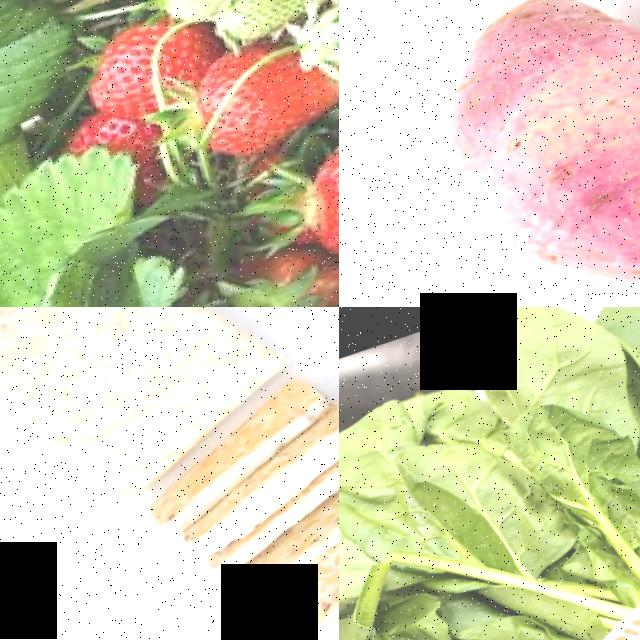spinach: (444, 307, 640, 625), (339, 362, 535, 640), (339, 543, 473, 640), (586, 307, 640, 468)
strawberry: (283, 100, 339, 280), (69, 22, 158, 131)
sweet potato: (393, 0, 640, 307)
tempeh: (0, 307, 321, 547), (130, 382, 339, 533), (260, 480, 339, 636)
